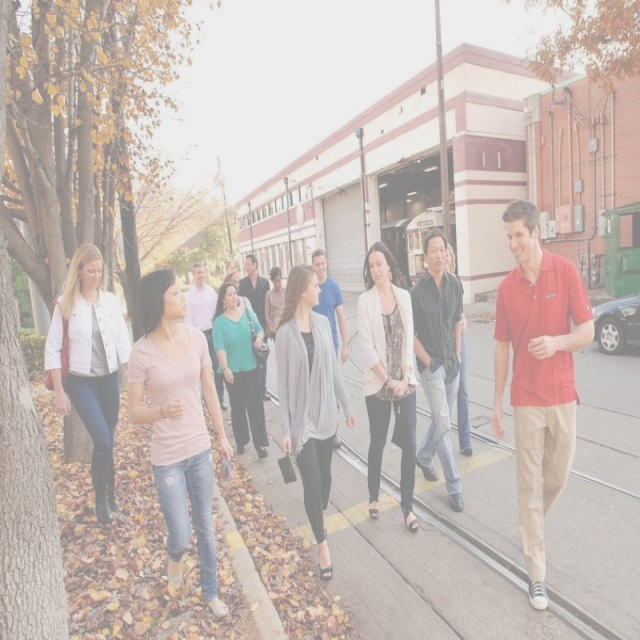pessoa: (489, 194, 596, 612), (124, 266, 235, 620), (40, 240, 141, 531), (274, 260, 358, 584), (356, 238, 422, 534), (410, 228, 466, 513), (418, 240, 476, 458), (210, 279, 272, 464), (310, 248, 350, 450), (184, 262, 229, 413), (236, 252, 272, 404), (263, 264, 287, 342), (222, 272, 256, 316)
